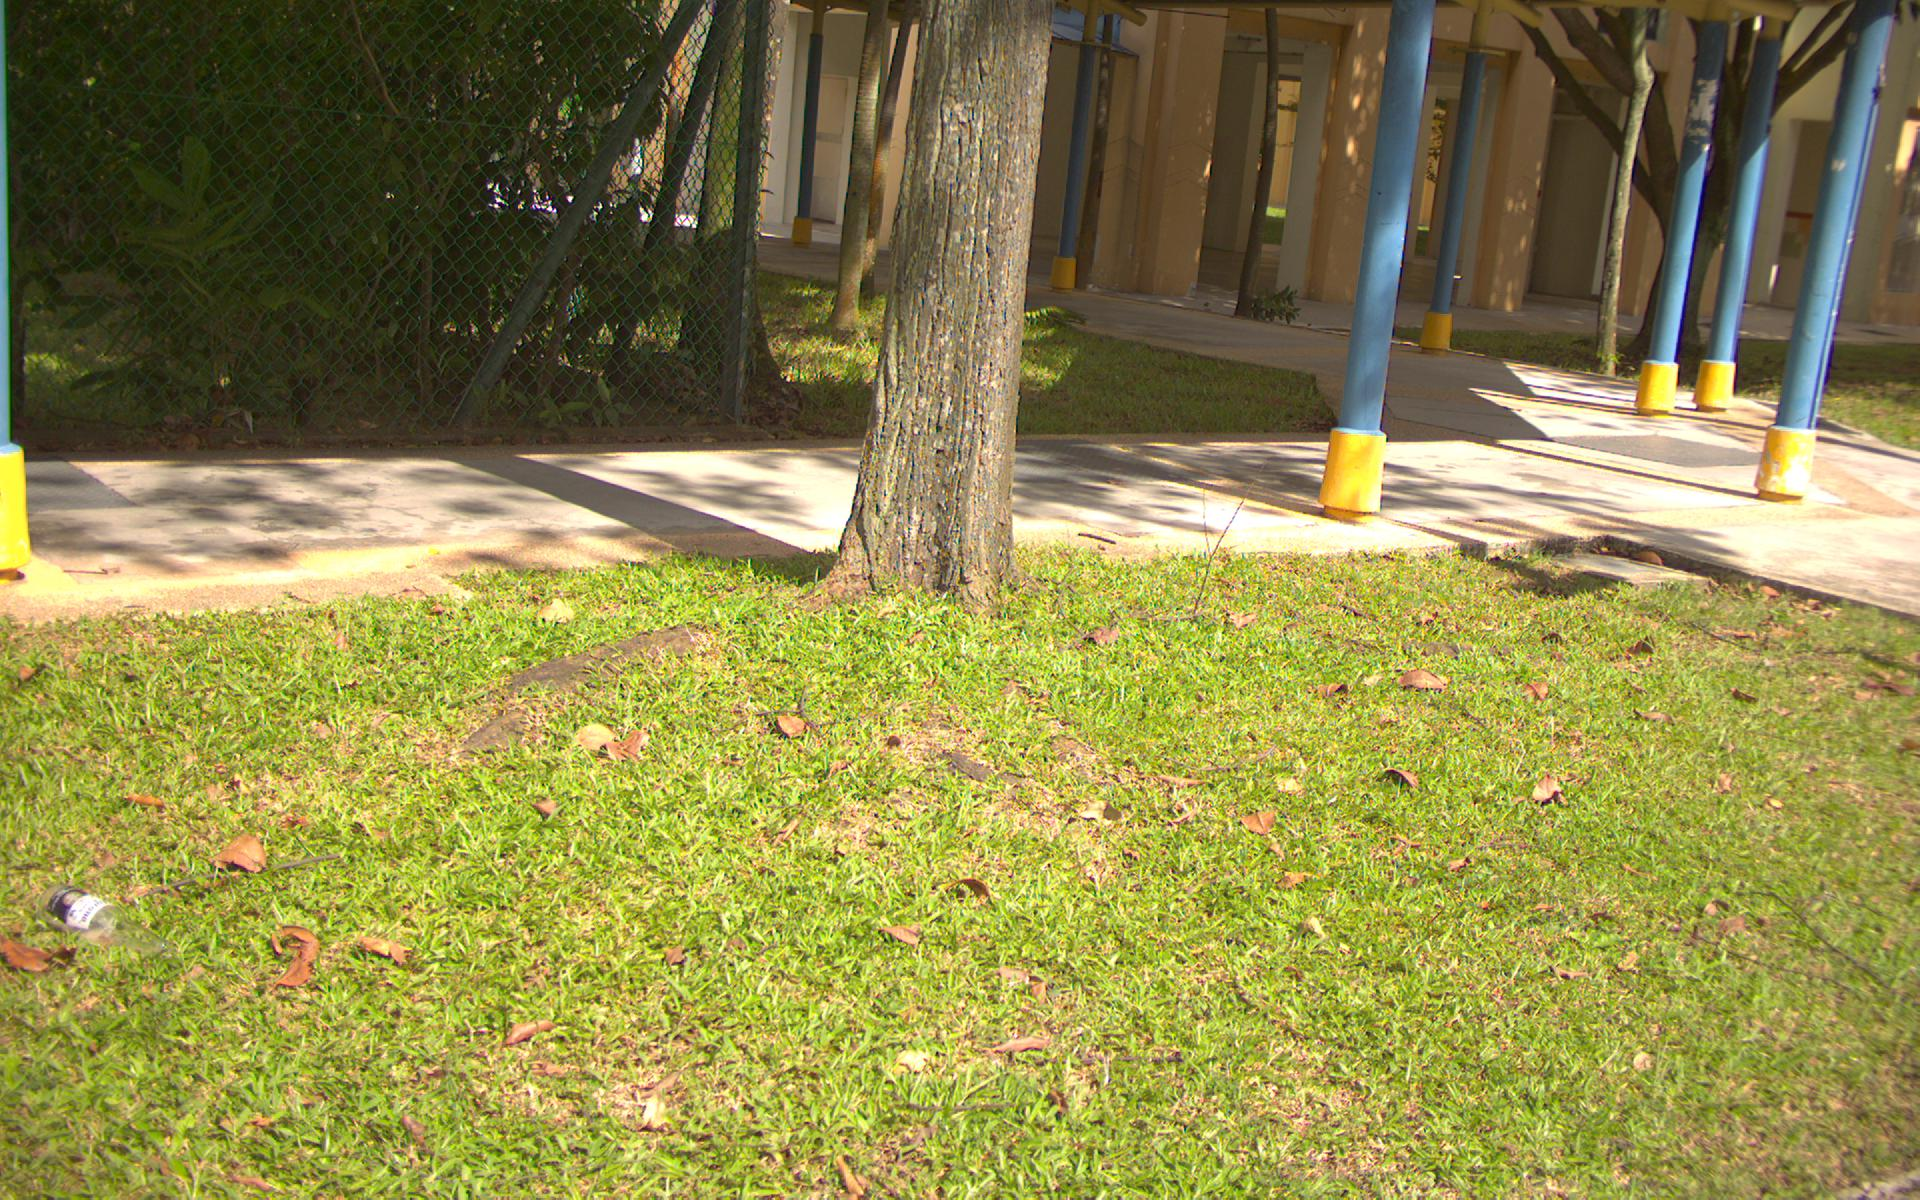pathway_low: (46, 455, 1891, 541)
road_turf_low: (4, 629, 1920, 1200)
